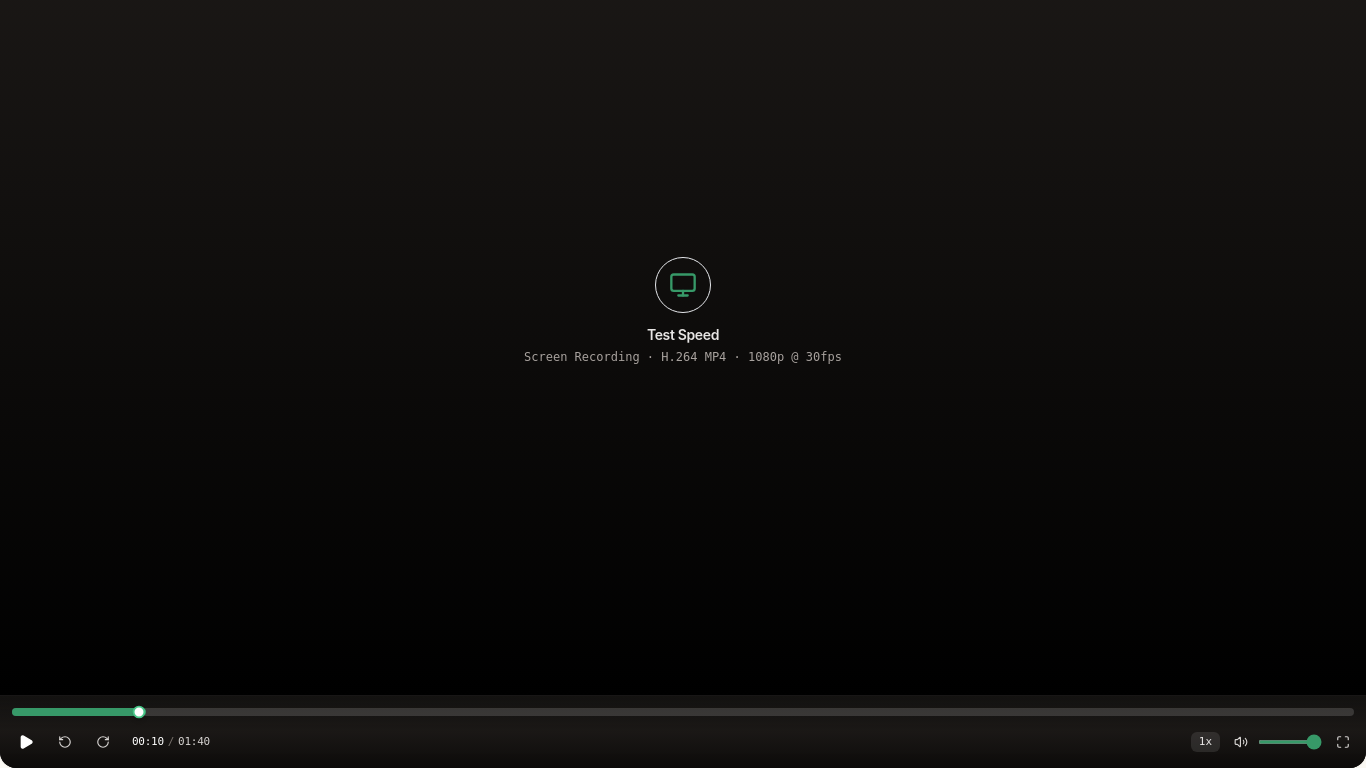
Test: M8.01: Video/Audio Player Component › supports playback speed selection (0.75x - 2.0x)
The image size is (1366, 768).
(page scrolled)
Click the button named "Playback speed" at (1205,742), box [1191, 732, 1220, 752]
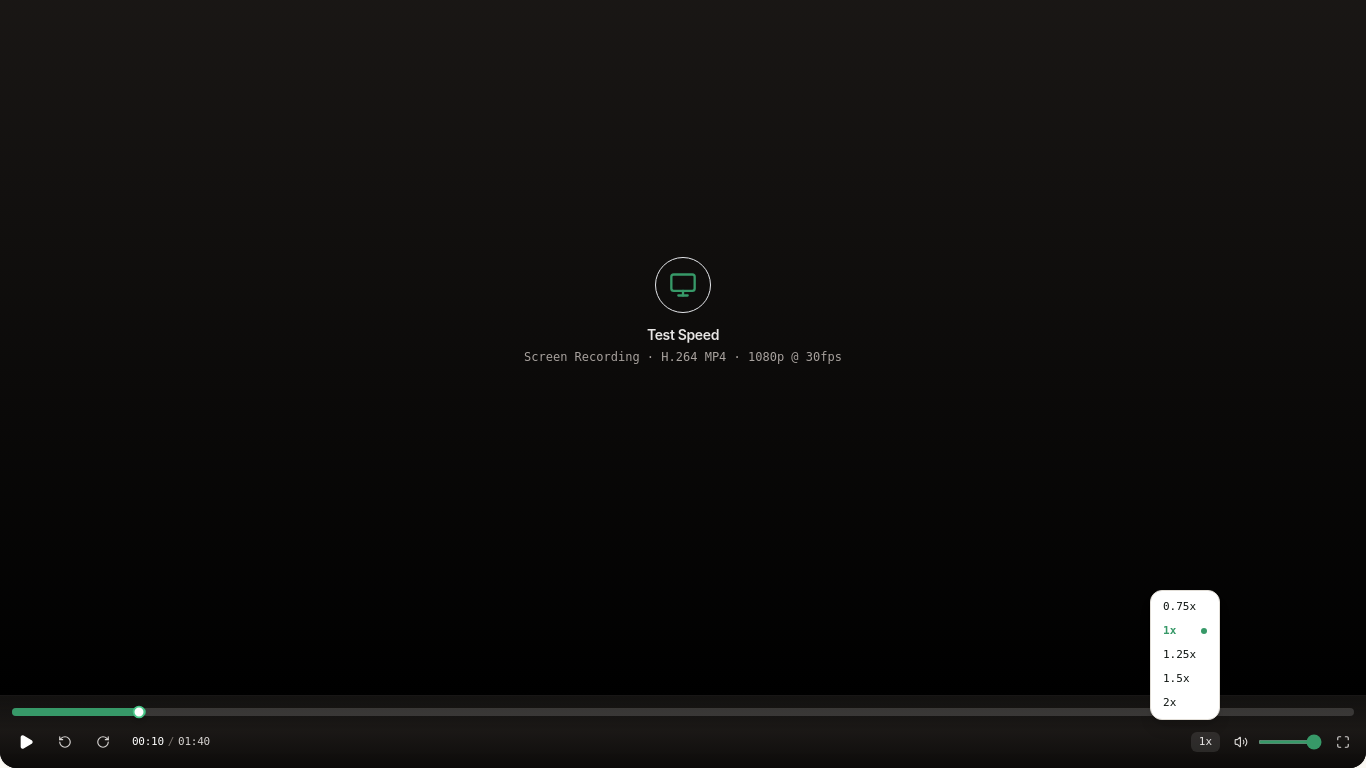
Expected: the menu item "1.5x" is shown
Expected: the menu item "2x" is shown, [1151, 691, 1219, 715]
Click the menu item "1.5x" at (1185,679), box [1151, 667, 1219, 691]
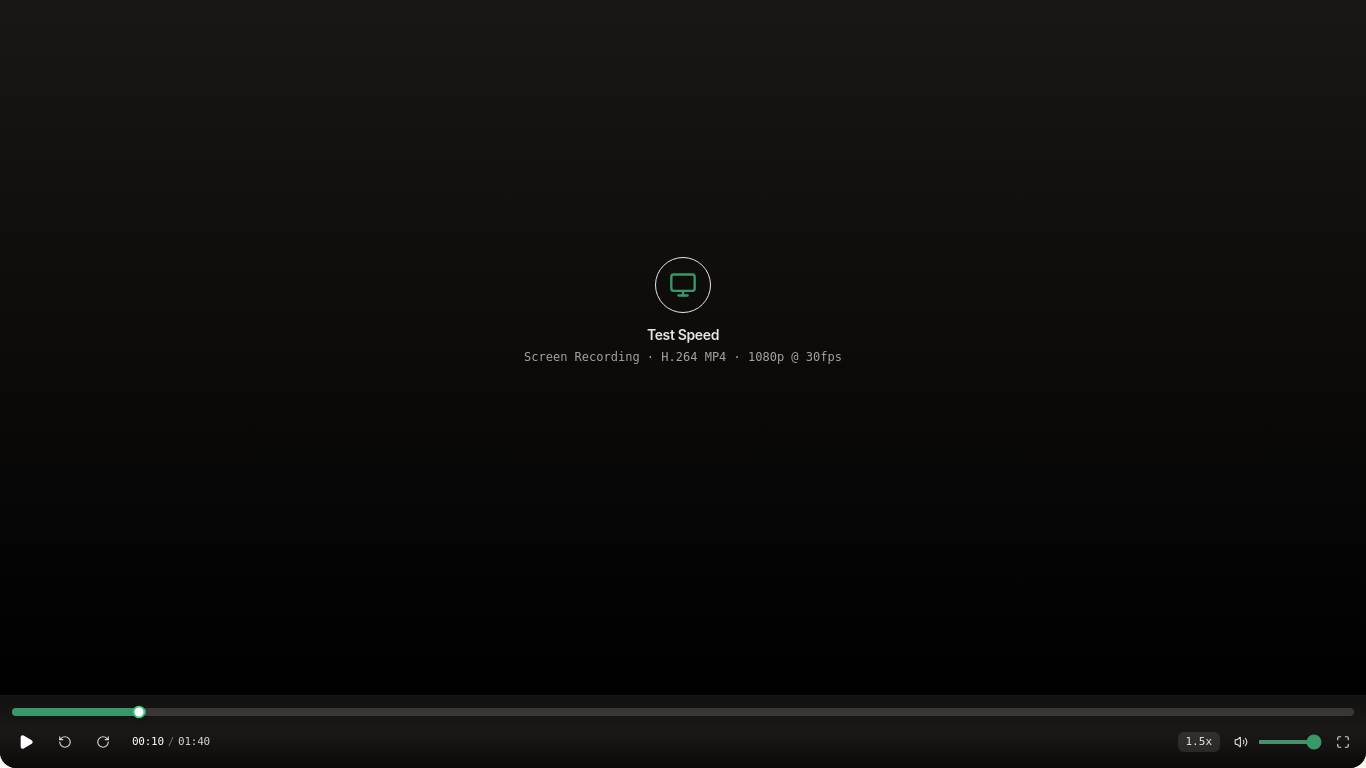
Expected: the button named "Playback speed" reads "1.5x", [1178, 732, 1220, 752]
